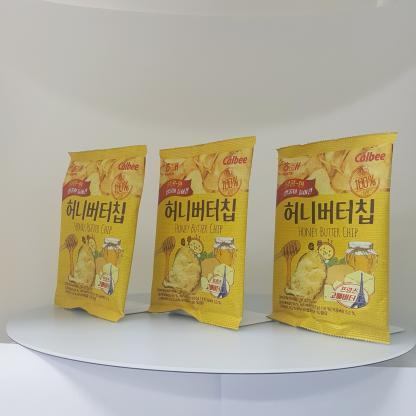Plastic Packaging: (156, 146, 256, 326), (46, 122, 136, 320)
